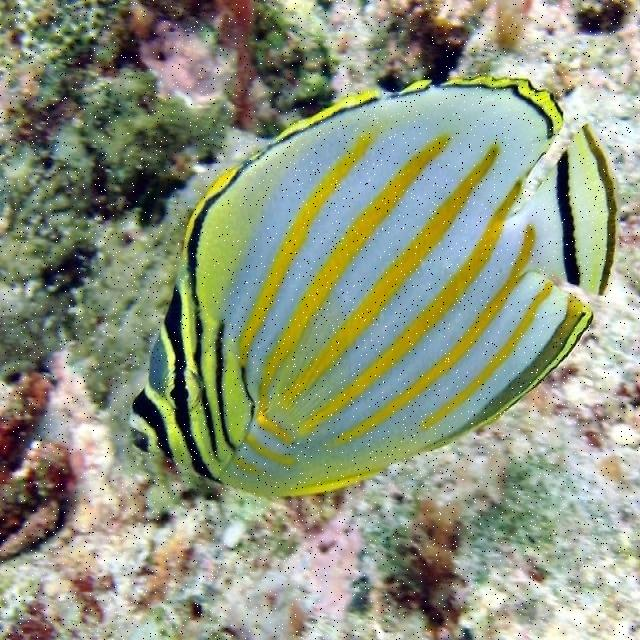fish: (127, 75, 621, 498)
